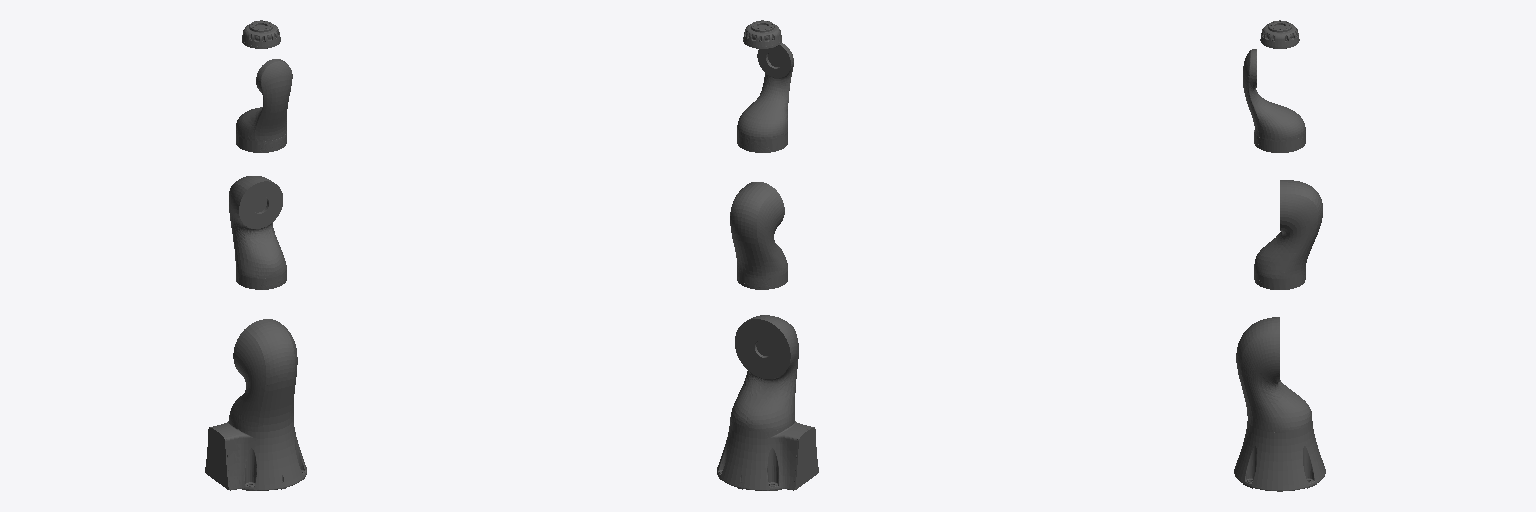
URDF robot description (iiwa14):
<?xml version="1.0"?>
<!-- ===================================================================== -->
<!-- |    This model is a hand edited version of the original model (see | -->
<!-- |    iiwa14_spheres_dense_elbow_collision.urdf). Joint 1 has been   | -->
<!-- |    welded at 0 degrees, joints 3 and 5 have been welded at 0      | -->
<!-- |    degrees, and joint 7 has been welded at -90 degrees.           | -->
<!-- |    Portions of the model rendered irrelevant by these changes     | -->
<!-- |    (e.g. transmissions for the newly welded joints) have been     | -->
<!-- |    removed.                                                       | -->
<!-- ===================================================================== -->
<robot xmlns:drake="http://drake.mit.edu" xmlns:xacro="http://www.ros.org/wiki/xacro" name="iiwa14">
  <!-- Import Rviz colors -->
  <material name="Black">
    <color rgba="0.0 0.0 0.0 1.0"/>
  </material>
  <material name="Grey">
    <color rgba="0.4 0.4 0.4 1.0"/>
  </material>
  <material name="Silver">
    <color rgba="0.6 0.6 0.6 1.0"/>
  </material>
  <material name="Orange">
    <color rgba="1.0 0.423529411765 0.0392156862745 1.0"/>
  </material>
  <!-- Defines a base link that will serve as the model's root. -->
  <link name="iiwa_link_0">
    <inertial>
      <origin rpy="0 0 0" xyz="-0.1 0 0.07"/>
      <mass value="5"/>
      <inertia ixx="0.05" ixy="0" ixz="0" iyy="0.06" iyz="0" izz="0.03"/>
    </inertial>
    <visual>
      <origin rpy="0 0 0" xyz="0 0 0"/>
      <geometry>
        <mesh filename="package://drake/manipulation/models/iiwa_description/meshes/visual/link_0.obj"/>
      </geometry>
      <material name="Grey"/>
    </visual>
    <collision>
      <origin rpy="0 0 0" xyz="-0.015 0 0.07"/>
      <geometry>
        <cylinder length="0.17" radius="0.139"/>
      </geometry>
      <material name="Grey"/>
    </collision>
    <self_collision_checking>
      <origin rpy="0 0 0" xyz="0 0 0"/>
      <geometry>
        <capsule length="0.25" radius="0.15"/>
      </geometry>
    </self_collision_checking>
  </link>
  <!-- joint between link_0 and link_1 -->
  <joint name="iiwa_joint_1" type="fixed">
    <parent link="iiwa_link_0"/>
    <child link="iiwa_link_1"/>
    <origin rpy="0 0 0" xyz="0 0 0.1575"/>
  </joint>
  <link name="iiwa_link_1">
    <inertial>
      <origin rpy="0 0 0" xyz="0 -0.03 0.12"/>
      <mass value="5.76"/>
      <inertia ixx="0.033" ixy="0" ixz="0" iyy="0.0333" iyz="0" izz="0.0123"/>
    </inertial>
    <visual>
      <origin rpy="0 0 0" xyz="0 0 0"/>
      <geometry>
        <mesh filename="package://drake/manipulation/models/iiwa_description/meshes/visual/link_1.obj"/>
      </geometry>
      <material name="Grey"/>
    </visual>
    <collision>
      <origin rpy="0 0 0" xyz="0 -0.03344534434 0.1974815417"/>
      <geometry>
        <sphere radius="0.07959901601"/>
      </geometry>
      <material name="Grey"/>
    </collision>
  </link>
  <!-- joint between link_1 and link_2 -->
  <joint name="iiwa_joint_2" type="revolute">
    <parent link="iiwa_link_1"/>
    <child link="iiwa_link_2"/>
    <origin rpy="1.570796326794897   0 3.141592653589793" xyz="0 0 0.2025"/>
    <axis xyz="0 0 1"/>
    <limit drake:acceleration="8.57" effort="320" lower="-2.09439510239" upper="2.09439510239" velocity="1.4835298641951802"/>
    <dynamics damping="0.5"/>
  </joint>
  <link name="iiwa_link_2">
    <inertial>
      <origin rpy="0 0 0" xyz="0.0003 0.059 0.042"/>
      <mass value="6.35"/>
      <!-- 3.95 kuka CAD value-->
      <!--4 Original Drake URDF value-->
      <inertia ixx="0.0305" ixy="0" ixz="0" iyy="0.0304" iyz="0" izz="0.011"/>
    </inertial>
    <visual>
      <origin rpy="0 0 0" xyz="0 0 0"/>
      <geometry>
        <mesh filename="package://drake/manipulation/models/iiwa_description/meshes/visual/link_2_orange.obj"/>
      </geometry>
      <material name="Orange"/>
    </visual>
    <visual>
      <origin rpy="0 0 0" xyz="0 0 0"/>
      <geometry>
        <mesh filename="package://drake/manipulation/models/iiwa_description/meshes/visual/link_2_grey.obj"/>
      </geometry>
      <material name="Grey"/>
    </visual>
    <collision>
      <origin rpy="0 0 0" xyz="-2.488800594e-017 0.203225991 -0.002065464272"/>
      <geometry>
        <sphere radius="0.06602481863"/>
      </geometry>
      <material name="Orange"/>
    </collision>
    <collision>
      <origin rpy="0 0 0" xyz="3.940519658e-019 -0.003217678485 0.05239182903"/>
      <geometry>
        <sphere radius="0.07959901601"/>
      </geometry>
      <material name="Orange"/>
    </collision>
  </link>
  <!-- joint between link_2 and link_3 -->
  <joint name="iiwa_joint_3" type="fixed">
    <parent link="iiwa_link_2"/>
    <child link="iiwa_link_3"/>
    <origin rpy="1.570796326794897 0 3.141592653589793" xyz="0 0.2045 0"/>
  </joint>
  <link name="iiwa_link_3">
    <inertial>
      <origin rpy="0 0 0" xyz="0 0.03 0.13"/>
      <mass value="3.5"/>
      <!--3.18 kuka CAD value-->
      <!--3 Original Drake URDF value-->
      <inertia ixx="0.025" ixy="0" ixz="0" iyy="0.0238" iyz="0" izz="0.0076"/>
    </inertial>
    <visual>
      <origin rpy="0 0 0" xyz="0 0 0"/>
      <geometry>
        <mesh filename="package://drake/manipulation/models/iiwa_description/meshes/visual/link_3.obj"/>
      </geometry>
      <material name="Grey"/>
    </visual>
    <visual>
      <origin rpy="0 0 0" xyz="0 0 0"/>
      <geometry>
        <mesh filename="package://drake/manipulation/models/iiwa_description/meshes/visual/band.obj"/>
      </geometry>
      <material name="Silver"/>
    </visual>
    <visual>
      <origin rpy="0 0 0" xyz="0 0 0"/>
      <geometry>
        <mesh filename="package://drake/manipulation/models/iiwa_description/meshes/visual/kuka.obj"/>
      </geometry>
      <material name="Black"/>
    </visual>
    <collision>
      <origin rpy="0 0 0" xyz="0 0 0.0355"/>
      <geometry>
        <sphere radius="0.075"/>
      </geometry>
      <material name="Grey"/>
    </collision>
    <collision>
      <origin rpy="0 0 0" xyz="0.01 0.023 0.0855"/>
      <geometry>
        <sphere radius="0.06"/>
      </geometry>
      <material name="Grey"/>
    </collision>
    <collision>
      <origin rpy="0 0 0" xyz="0.01 0.048 0.1255"/>
      <geometry>
        <sphere radius="0.055"/>
      </geometry>
      <material name="Grey"/>
    </collision>
    <collision>
      <origin rpy="0 0 0" xyz="0.01 0.056 0.1755"/>
      <geometry>
        <sphere radius="0.06"/>
      </geometry>
      <material name="Grey"/>
    </collision>
    <collision>
      <origin rpy="0 0 0" xyz="-0.01 0.023 0.0855"/>
      <geometry>
        <sphere radius="0.06"/>
      </geometry>
      <material name="Grey"/>
    </collision>
    <collision>
      <origin rpy="0 0 0" xyz="-0.01 0.048 0.1255"/>
      <geometry>
        <sphere radius="0.055"/>
      </geometry>
      <material name="Grey"/>
    </collision>
    <collision>
      <origin rpy="0 0 0" xyz="-0.01 0.056 0.1755"/>
      <geometry>
        <sphere radius="0.06"/>
      </geometry>
      <material name="Grey"/>
    </collision>
    <collision>
      <origin rpy="0 0 0" xyz="0 0.045 0.2155"/>
      <geometry>
        <sphere radius="0.075"/>
      </geometry>
      <material name="Grey"/>
    </collision>
    <collision>
      <origin rpy="0 0 0" xyz="0 0 0.2155"/>
      <geometry>
        <sphere radius="0.075"/>
      </geometry>
      <material name="Grey"/>
    </collision>
  </link>
  <!-- joint between link_3 and link_4 -->
  <joint name="iiwa_joint_4" type="revolute">
    <parent link="iiwa_link_3"/>
    <child link="iiwa_link_4"/>
    <origin rpy="1.570796326794897 0 0" xyz="0 0 0.2155"/>
    <axis xyz="0 0 1"/>
    <limit  drake:acceleration="11.36" effort="176" lower="-2.09439510239" upper="2.09439510239" velocity="1.3089969389957472"/>
    <dynamics damping="0.5"/>
  </joint>
  <link name="iiwa_link_4">
    <inertial>
      <origin rpy="0 0 0" xyz="0 0.067 0.034"/>
      <mass value="3.5"/>
      <!--2.74 kuka CAD value-->
      <!--2.7 Original Drake URDF value-->
      <inertia ixx="0.017" ixy="0" ixz="0" iyy="0.0164" iyz="0" izz="0.006"/>
    </inertial>
    <visual>
      <origin rpy="0 0 0" xyz="0 0 0"/>
      <geometry>
        <mesh filename="package://drake/manipulation/models/iiwa_description/meshes/visual/link_4_orange.obj"/>
      </geometry>
      <material name="Orange"/>
    </visual>
    <visual>
      <origin rpy="0 0 0" xyz="0 0 0"/>
      <geometry>
        <mesh filename="package://drake/manipulation/models/iiwa_description/meshes/visual/link_4_grey.obj"/>
      </geometry>
      <material name="Grey"/>
    </visual>
    <collision>
      <origin rpy="0 0 0" xyz="0 0.01 0.046"/>
      <geometry>
        <sphere radius="0.078"/>
      </geometry>
      <material name="Grey"/>
    </collision>
    <collision>
      <origin rpy="0 0 0" xyz="0.01 0.06 0.052"/>
      <geometry>
        <sphere radius="0.06"/>
      </geometry>
      <material name="Grey"/>
    </collision>
    <collision>
      <origin rpy="0 0 0" xyz="0.01 0.12 0.034"/>
      <geometry>
        <sphere radius="0.065"/>
      </geometry>
      <material name="Grey"/>
    </collision>
    <collision>
      <origin rpy="0 0 0" xyz="-0.01 0.06 0.052"/>
      <geometry>
        <sphere radius="0.06"/>
      </geometry>
      <material name="Grey"/>
    </collision>
    <collision>
      <origin rpy="0 0 0" xyz="-0.01 0.12 0.034"/>
      <geometry>
        <sphere radius="0.065"/>
      </geometry>
      <material name="Grey"/>
    </collision>
    <collision>
      <origin rpy="0 0 0" xyz="0 0.184 0"/>
      <geometry>
        <sphere radius="0.075"/>
      </geometry>
      <material name="Grey"/>
    </collision>
  </link>
  <!-- joint between link_4 and link_5 -->
  <joint name="iiwa_joint_5" type="fixed">
    <parent link="iiwa_link_4"/>
    <child link="iiwa_link_5"/>
    <origin rpy="-1.570796326794897 3.141592653589793 0" xyz="0 0.1845 0"/>
  </joint>
  <link name="iiwa_link_5">
    <inertial>
      <origin rpy="0 0 0" xyz="0.0001 0.021 0.076"/>
      <mass value="3.5"/>
      <!--1.69 kuka CAD value-->
      <!--1.7 Original Drake URDF value-->
      <inertia ixx="0.01" ixy="0" ixz="0" iyy="0.0087" iyz="0" izz="0.00449"/>
    </inertial>
    <visual>
      <origin rpy="0 0 0" xyz="0 0 0"/>
      <geometry>
        <mesh filename="package://drake/manipulation/models/iiwa_description/meshes/visual/link_5.obj"/>
      </geometry>
      <material name="Grey"/>
    </visual>
    <visual>
      <origin rpy="0 0 0" xyz="0 0 0"/>
      <geometry>
        <mesh filename="package://drake/manipulation/models/iiwa_description/meshes/visual/band.obj"/>
      </geometry>
      <material name="Silver"/>
    </visual>
    <visual>
      <origin rpy="0 0 0" xyz="0 0 0"/>
      <geometry>
        <mesh filename="package://drake/manipulation/models/iiwa_description/meshes/visual/kuka.obj"/>
      </geometry>
      <material name="Black"/>
    </visual>
  </link>
  <!-- joint between link_5 and link_6 -->
  <joint name="iiwa_joint_6" type="revolute">
    <parent link="iiwa_link_5"/>
    <child link="iiwa_link_6"/>
    <origin rpy="1.570796326794897 0 0" xyz="0 0 0.2155"/>
    <axis xyz="0 0 1"/>
    <limit drake:acceleration="15.72" effort="40" lower="-2.09439510239" upper="2.09439510239" velocity="2.356194490192345"/>
    <dynamics damping="0.5"/>
  </joint>
  <link name="iiwa_link_6">
    <inertial>
      <origin rpy="0 0 0" xyz="0 0.0006 0.0004"/>
      <mass value="1.8"/>
      <!--1.8 kuka CAD value-->
      <!--1.8 Original Drake URDF value-->
      <inertia ixx="0.0049" ixy="0" ixz="0" iyy="0.0047" iyz="0" izz="0.0036"/>
    </inertial>
    <visual>
      <origin rpy="0 0 0" xyz="0 0 0"/>
      <geometry>
        <mesh filename="package://drake/manipulation/models/iiwa_description/meshes/visual/link_6_orange.obj"/>
      </geometry>
      <material name="Orange"/>
    </visual>
    <visual>
      <origin rpy="0 0 0" xyz="0 0 0"/>
      <geometry>
        <mesh filename="package://drake/manipulation/models/iiwa_description/meshes/visual/link_6_grey.obj"/>
      </geometry>
      <material name="Grey"/>
    </visual>
    <collision>
      <origin rpy="0 0 0" xyz="0 0 -0.059"/>
      <geometry>
        <sphere radius="0.055"/>
      </geometry>
      <material name="Grey"/>
    </collision>
    <collision>
      <origin rpy="0 0 0" xyz="0 0.0 0"/>
      <geometry>
        <sphere radius="0.08"/>
      </geometry>
      <material name="Grey"/>
    </collision>
  </link>
  <!-- joint between link_6 and link_7 -->
  <joint name="iiwa_joint_7" type="fixed">
    <parent link="iiwa_link_6"/>
    <child link="iiwa_link_7"/>
    <origin rpy="-1.570796326794897 -1.57079632679 0" xyz="0 0.081 0"/>
  </joint>
  <link name="iiwa_link_7">
    <inertial>
      <origin rpy="0 0 0" xyz="0 0 0.02"/>
      <mass value="1.2"/>
      <!--0.31 kuka CAD value-->
      <!--0.3 Original Drake URDF value-->
      <inertia ixx="0.001" ixy="0" ixz="0" iyy="0.001" iyz="0" izz="0.001"/>
    </inertial>
    <visual>
      <origin rpy="0 0 0" xyz="0 0 0"/>
      <geometry>
        <mesh filename="package://drake/manipulation/models/iiwa_description/meshes/visual/link_7.obj"/>
      </geometry>
      <material name="Grey"/>
    </visual>
    <collision>
      <origin rpy="0 0 0" xyz="0 0 0.001"/>
      <geometry>
        <sphere radius="0.06"/>
      </geometry>
      <material name="Grey"/>
    </collision>
  </link>
  <joint name="iiwa_joint_ee" type="fixed">
    <parent link="iiwa_link_7"/>
    <child link="iiwa_link_ee_kuka"/>
    <origin rpy="3.141592653589793 3.141592653589793 3.141592653589793" xyz="0 0 0.045"/>
    <axis xyz="0 0 1"/>
  </joint>
  <link name="iiwa_link_ee_kuka">
    </link>
  <joint name="tool0_joint" type="fixed">
    <parent link="iiwa_link_7"/>
    <child link="iiwa_link_ee"/>
    <origin rpy="0 -1.570796326794897 0" xyz="0 0 0.045"/>
  </joint>
  <link name="iiwa_link_ee">
    </link>
  <frame link="iiwa_link_ee" name="iiwa_frame_ee" rpy="3.141592653589793 0 1.570796326794897" xyz="0.09 0 0"/>
  <!-- Load Gazebo lib and set the robot namespace -->
  <gazebo>
    <plugin filename="libgazebo_ros_control.so" name="gazebo_ros_controller">
      <robotNamespace>/iiwa</robotNamespace>
    </plugin>
  </gazebo>
  <!-- Link0 -->
  <gazebo reference="iiwa_link_0">
    <material>Gazebo/Grey</material>
    <mu1>0.2</mu1>
    <mu2>0.2</mu2>
  </gazebo>
  <!-- Link1 -->
  <gazebo reference="iiwa_link_1">
    <material>Gazebo/Orange</material>
    <mu1>0.2</mu1>
    <mu2>0.2</mu2>
  </gazebo>
  <!-- Link2 -->
  <gazebo reference="iiwa_link_2">
    <material>Gazebo/Orange</material>
    <mu1>0.2</mu1>
    <mu2>0.2</mu2>
  </gazebo>
  <!-- Link3 -->
  <gazebo reference="iiwa_link_3">
    <material>Gazebo/Orange</material>
    <mu1>0.2</mu1>
    <mu2>0.2</mu2>
  </gazebo>
  <!-- Link4 -->
  <gazebo reference="iiwa_link_4">
    <material>Gazebo/Orange</material>
    <mu1>0.2</mu1>
    <mu2>0.2</mu2>
  </gazebo>
  <!-- Link5 -->
  <gazebo reference="iiwa_link_5">
    <material>Gazebo/Orange</material>
    <mu1>0.2</mu1>
    <mu2>0.2</mu2>
  </gazebo>
  <!-- Link6 -->
  <gazebo reference="iiwa_link_6">
    <material>Gazebo/Orange</material>
    <mu1>0.2</mu1>
    <mu2>0.2</mu2>
  </gazebo>
  <!-- Link7 -->
  <gazebo reference="iiwa_link_7">
    <material>Gazebo/Grey</material>
    <mu1>0.2</mu1>
    <mu2>0.2</mu2>
  </gazebo>
  <transmission name="iiwa_tran_2">
    <robotNamespace>/iiwa</robotNamespace>
    <type>transmission_interface/SimpleTransmission</type>
    <joint name="iiwa_joint_2">
      <hardwareInterface>PositionJointInterface</hardwareInterface>
    </joint>
    <actuator name="iiwa_motor_2">
      <hardwareInterface>PositionJointInterface</hardwareInterface>
      <mechanicalReduction>1</mechanicalReduction>
    </actuator>
  </transmission>
  <transmission name="iiwa_tran_4">
    <robotNamespace>/iiwa</robotNamespace>
    <type>transmission_interface/SimpleTransmission</type>
    <joint name="iiwa_joint_4">
      <hardwareInterface>PositionJointInterface</hardwareInterface>
    </joint>
    <actuator name="iiwa_motor_4">
      <hardwareInterface>PositionJointInterface</hardwareInterface>
      <mechanicalReduction>1</mechanicalReduction>
    </actuator>
  </transmission>
  <transmission name="iiwa_tran_6">
    <robotNamespace>/iiwa</robotNamespace>
    <type>transmission_interface/SimpleTransmission</type>
    <joint name="iiwa_joint_6">
      <hardwareInterface>PositionJointInterface</hardwareInterface>
    </joint>
    <actuator name="iiwa_motor_6">
      <hardwareInterface>PositionJointInterface</hardwareInterface>
      <mechanicalReduction>1</mechanicalReduction>
    </actuator>
  </transmission>
  <drake:collision_filter_group name="wrist">
    <drake:member link="iiwa_link_5"/>
    <drake:member link="iiwa_link_6"/>
    <drake:member link="iiwa_link_7"/>
    <drake:ignored_collision_filter_group name="wrist"/>
  </drake:collision_filter_group>
</robot>

--- What the picture shows (computed from the rendered views, not written in the file) ---
The picture shows the robot from 3 angles, left to right: view 1: azimuth 30°, elevation 25°; view 2: azimuth 150°, elevation 25°; view 3: azimuth 270°, elevation 25°; orthographic projection.
Robot: iiwa14 — 10 links, 9 joints (3 revolute, 6 fixed); root link iiwa_link_0; default pose: every joint at zero.
Links seen in each view (by area): view 1: iiwa_link_1, iiwa_link_0, iiwa_link_3, iiwa_link_5, iiwa_link_7; view 2: iiwa_link_1, iiwa_link_0, iiwa_link_3, iiwa_link_5, iiwa_link_7; view 3: iiwa_link_1, iiwa_link_0, iiwa_link_3, iiwa_link_5, iiwa_link_7.
Boxes of the visible links, x1,y1,x2,y2 form: iiwa_link_1: (229, 319, 297, 431); iiwa_link_0: (205, 420, 306, 490); iiwa_link_3: (229, 176, 286, 289); iiwa_link_5: (236, 59, 292, 152); iiwa_link_7: (242, 20, 280, 48); iiwa_link_1: (730, 315, 798, 431); iiwa_link_0: (717, 419, 818, 490); iiwa_link_3: (730, 182, 787, 289); iiwa_link_5: (737, 43, 793, 152); iiwa_link_7: (743, 20, 781, 48); iiwa_link_1: (1236, 317, 1311, 432); iiwa_link_0: (1234, 421, 1325, 491); iiwa_link_3: (1254, 180, 1322, 289); iiwa_link_5: (1243, 49, 1305, 152); iiwa_link_7: (1260, 20, 1299, 48).
Size in the robot's own frame: 0.2572 by 0.2428 by 1.31 metres.
5 mesh visuals loaded from 13 distinct referenced files (5 OBJ); not drawn: 10 (reference not matched to a file when rendering).